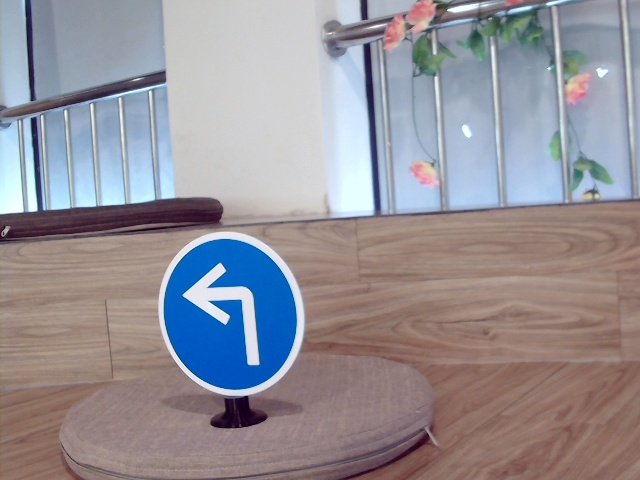turn_left: (179, 257, 266, 369)
